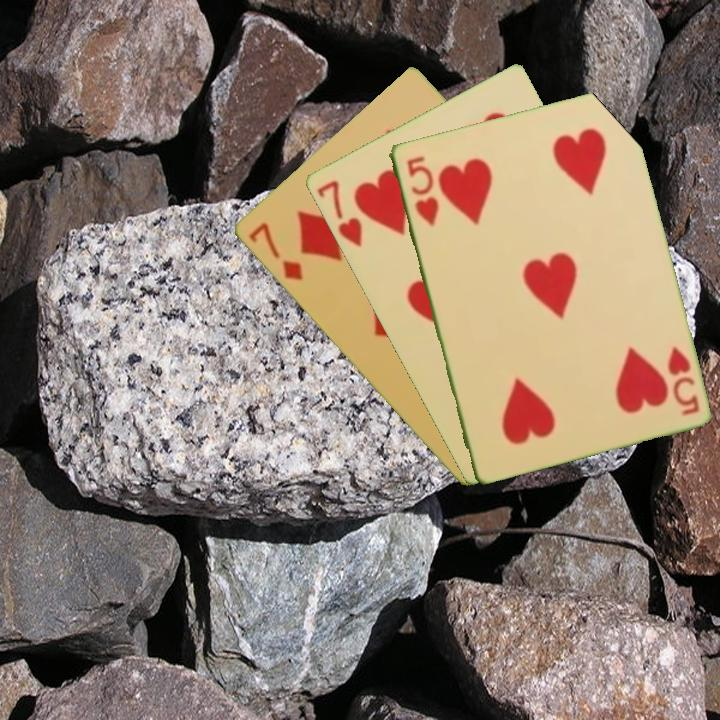5h: (402, 152, 441, 229), (663, 343, 702, 418)
7d: (244, 219, 306, 284)
7h: (313, 176, 365, 250)
